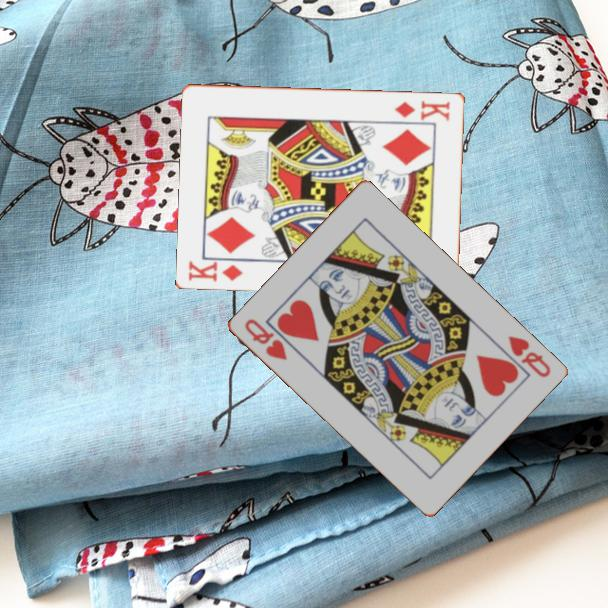d13: (392, 97, 453, 124), (185, 257, 246, 284)
h12: (241, 315, 290, 363), (504, 332, 553, 380)
